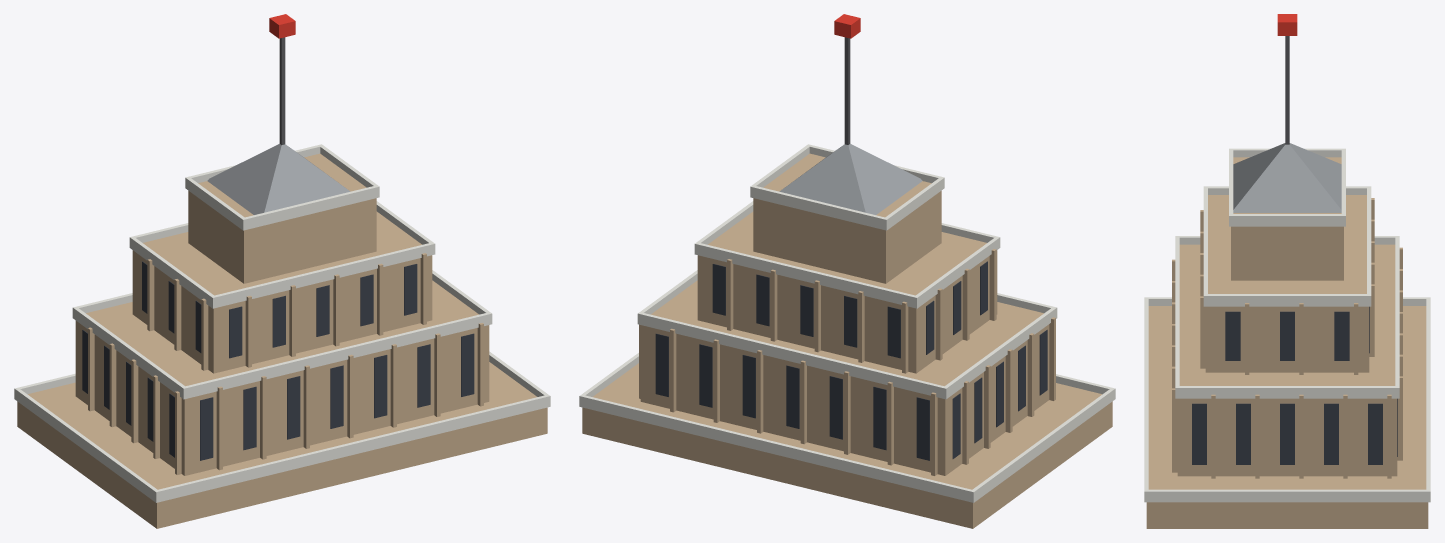
The model's file is crown_deco.glb.
3 views of the same model, side by side, from view 1: azimuth 30°, elevation 25°; view 2: azimuth 150°, elevation 25°; view 3: azimuth 270°, elevation 25° (orthographic).
Visible parts, largest first — view 1: crown_deco; view 2: crown_deco; view 3: crown_deco.
Boxes of the visible parts, x1,y1,x2,y2 form: crown_deco: [14, 14, 550, 528]; crown_deco: [579, 14, 1115, 528]; crown_deco: [1144, 14, 1430, 528].
Bounding box in the file's own units: 21.2 × 21.1 × 13.2.
